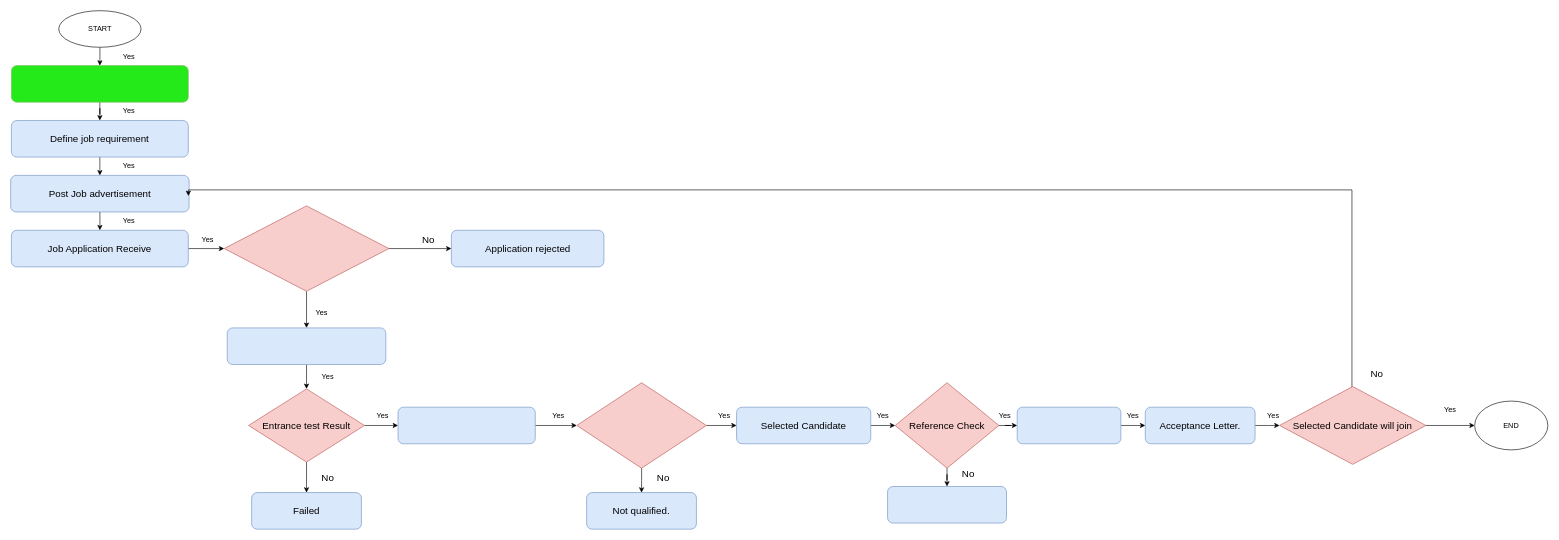
Image size: 1559x540. Some labels were removed from this diagram. The shapes that lost their labels are listed below. From the top down, each one's centre as x and y in pixels, then its label:
pixel 99 83: Identify Job opening
pixel 306 248: Review Application
pixel 306 345: Conduct Entrance Test.
pixel 466 425: Conduct Interview
pixel 641 425: Interview with Interviewer
pixel 1069 425: Offer Letter.
pixel 946 504: Not Up to the mark
